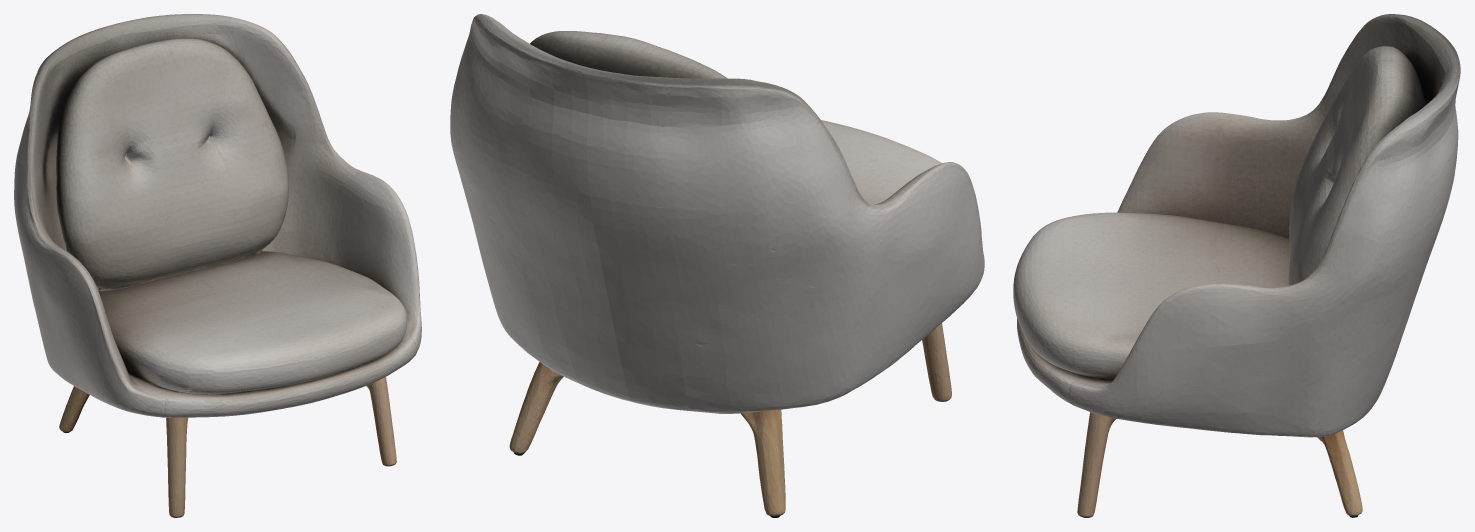
Rendered from sillon.glb.
The picture shows the model from 3 angles, left to right: view 1: azimuth 30°, elevation 25°; view 2: azimuth 150°, elevation 25°; view 3: azimuth 270°, elevation 25°; orthographic projection. The views are drawn at different scales.
Visible parts, largest first — view 1: world; view 2: world; view 3: world.
Part boxes in pixels (left/top/right/bottom): world: left=14, top=14, right=421, bottom=517; world: left=450, top=14, right=984, bottom=517; world: left=1013, top=14, right=1460, bottom=517.
Size of the model in its own units: 0.9487 by 0.9786 by 0.9982.
Materials: 1 (1 with a texture image).
